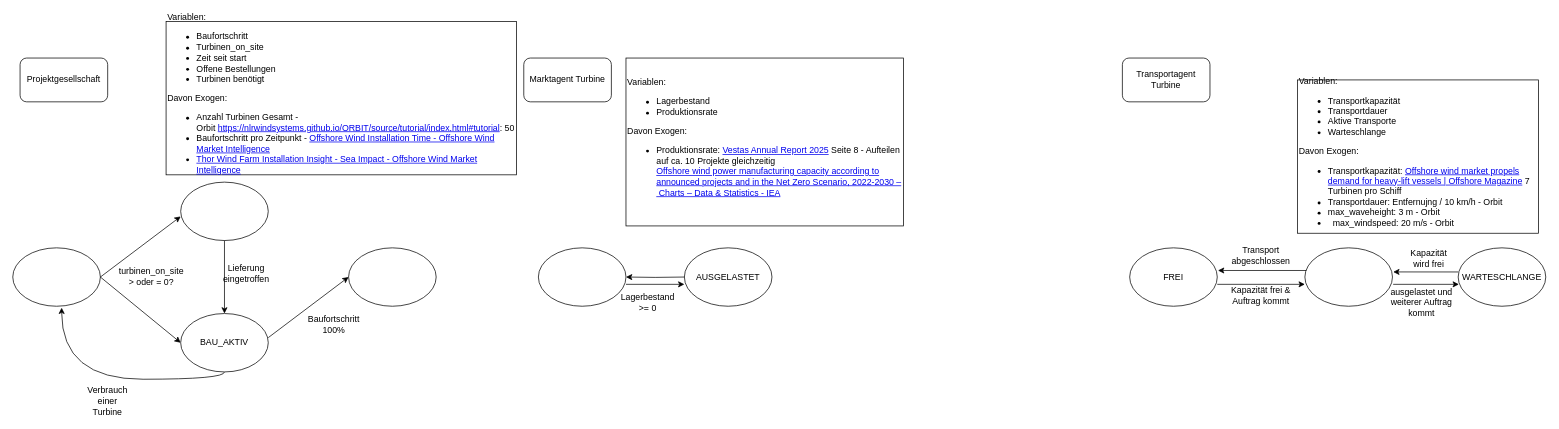
Some shapes in this 1559 by 429 pixel diagram are drawn without their labels. Each missing label, with the centre of its shape:
PLANUNG: the point at 56,276
PROJEKT ABGESCHLOSSEN: the point at 392,276
TRANSPORT_LÄUFT: the point at 1348,276
VERFÜGBAR: the point at 582,276
WARTE AUF LIEFERUNG: the point at 224,211
